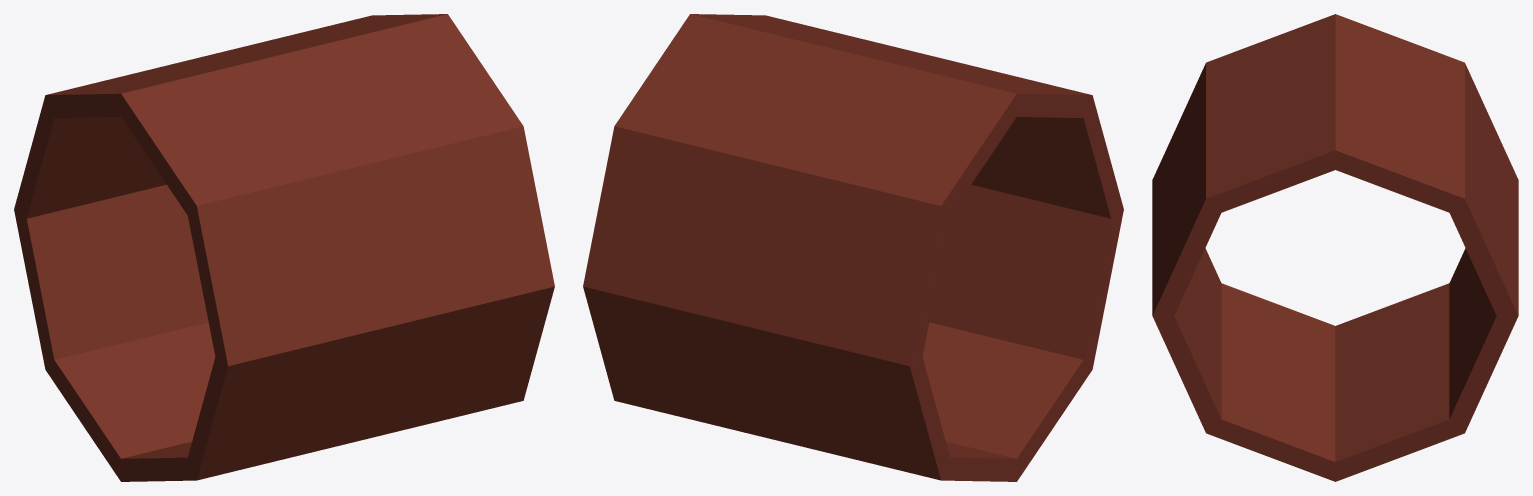
The model's file is HallFinal0.fbx.
3 renders of one model, left to right at view 1: azimuth 30°, elevation 25°; view 2: azimuth 150°, elevation 25°; view 3: azimuth 270°, elevation 25°, orthographic. The views are drawn at different scales.
Parts seen in each view (by area): view 1: Circle.179; view 2: Circle.179; view 3: Circle.179.
Boxes of the visible parts, left/top/right/bottom form: Circle.179: left=14, top=14, right=554, bottom=481; Circle.179: left=583, top=14, right=1123, bottom=481; Circle.179: left=1152, top=14, right=1518, bottom=481.
Bounding box in the file's own units: 8000 × 9082 × 9082.
